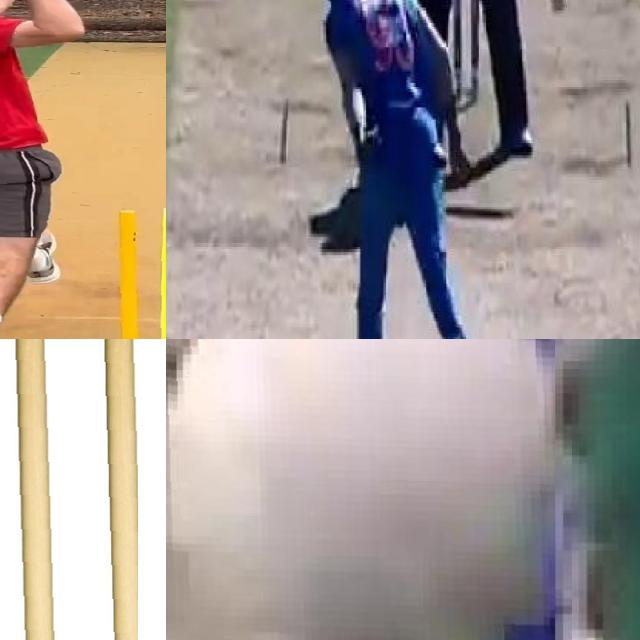Cricket ball: (166, 339, 555, 640), (548, 0, 567, 14)
Stumps: (0, 339, 138, 640), (99, 208, 166, 339)
